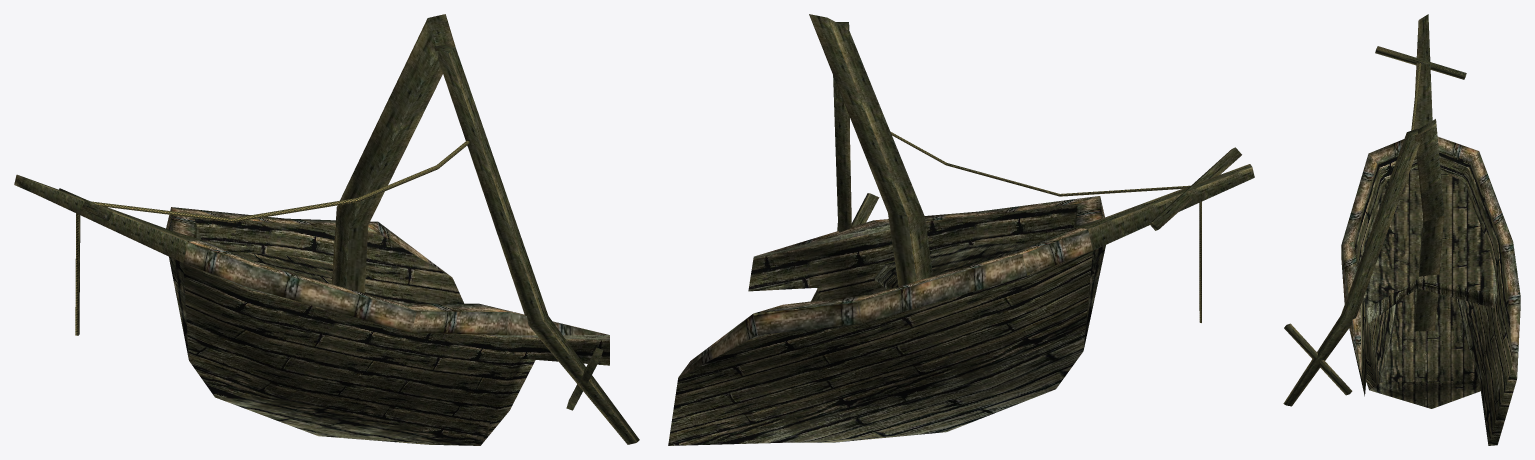
File: OW_SHIPWRECK_BUG.glb
3 renders of one model, left to right at view 1: azimuth 30°, elevation 25°; view 2: azimuth 150°, elevation 25°; view 3: azimuth 270°, elevation 25°, orthographic. The views are drawn at different scales.
Parts seen in each view (by area): view 1: Mesh; view 2: Mesh; view 3: Mesh.
Part boxes in pixels (bbox=[...]): Mesh: bbox=[14, 14, 639, 445]; Mesh: bbox=[668, 14, 1254, 445]; Mesh: bbox=[1283, 14, 1520, 445].
Size of the model in its own units: 21.9 by 16.15 by 11.93.
2 materials, 2 textured.
